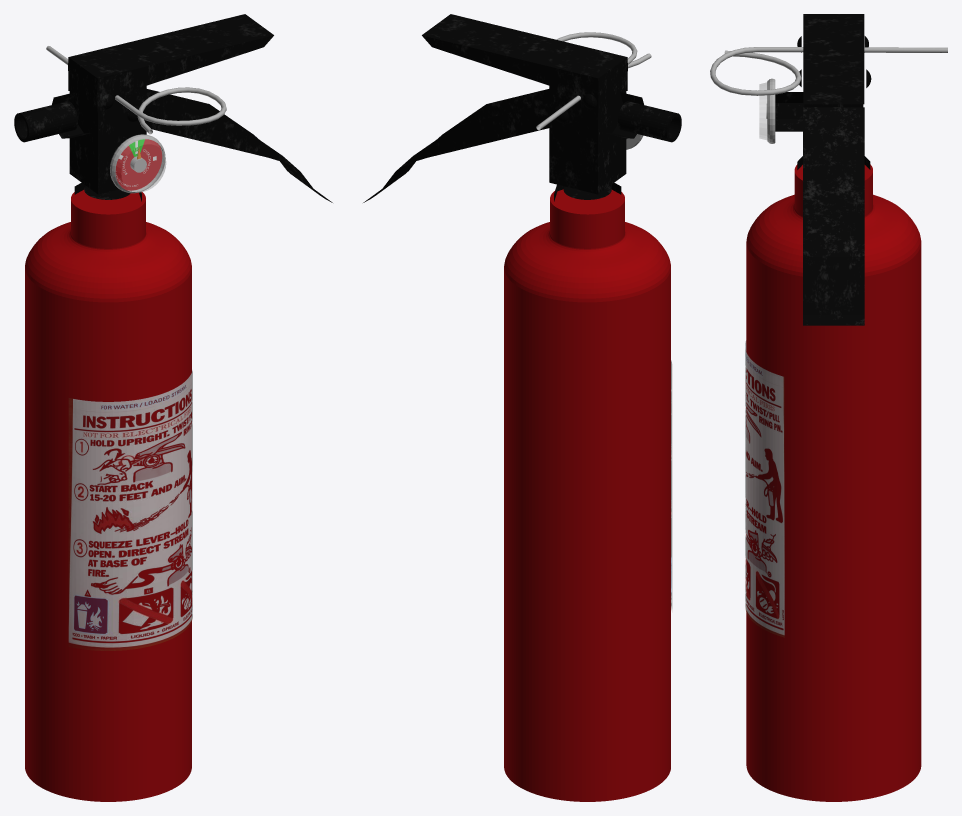
Rendered from FireExtinguisher.gltf.
The picture shows the model from 3 angles, left to right: view 1: azimuth 30°, elevation 25°; view 2: azimuth 150°, elevation 25°; view 3: azimuth 270°, elevation 25°; orthographic projection. The views are drawn at different scales.
Visible parts, largest first — view 1: Red metal, Label, Black plastic, Metal, Glass, Red; view 2: Red metal, Black plastic, Metal; view 3: Red metal, Black plastic, Label, Metal, Glass.
Part boxes in pixels (x1,y1,x2,y2): Red metal: (25,190,191,801); Label: (68,370,192,650); Black plastic: (14,14,332,202); Metal: (46,46,226,193); Glass: (116,139,166,192); Red: (115,139,162,190); Red metal: (504,189,670,801); Black plastic: (363,14,681,202); Metal: (536,32,651,149); Red metal: (746,164,921,801); Black plastic: (775,14,871,325); Label: (745,340,784,637); Metal: (710,47,947,143); Glass: (759,82,767,140).
Size of the model in its own units: 0.4318 by 0.9779 by 0.2855.
Materials: 9 (2 with a texture image).
